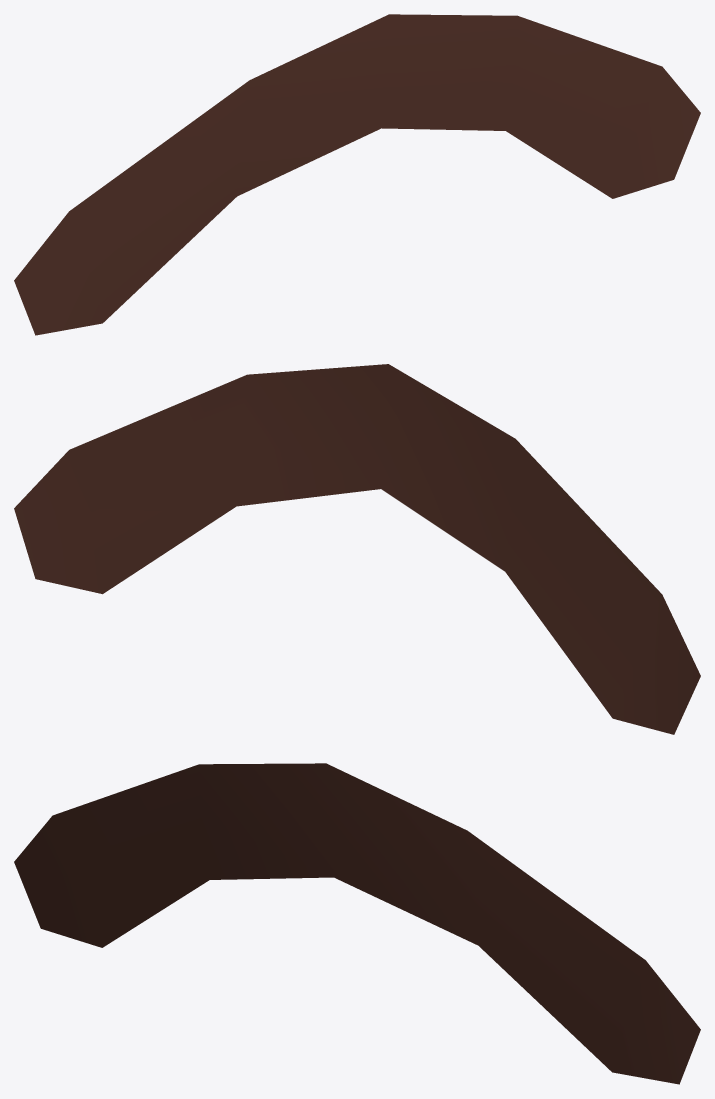
The model's file is Mouth_Black_4.fbx.
The picture shows the model from 3 angles, top to bottom: view 1: azimuth 30°, elevation 25°; view 2: azimuth 150°, elevation 25°; view 3: azimuth 330°, elevation 25°; orthographic projection.
Parts seen in each view (by area): view 1: Mouth_Black_4; view 2: Mouth_Black_4; view 3: Mouth_Black_4.
Part boxes in pixels (<box>): Mouth_Black_4: <box>14,14,700,335</box>; Mouth_Black_4: <box>14,364,700,734</box>; Mouth_Black_4: <box>14,763,700,1084</box>.
Bounding box in the file's own units: 6.25 × 2.35 × 0.5357.
